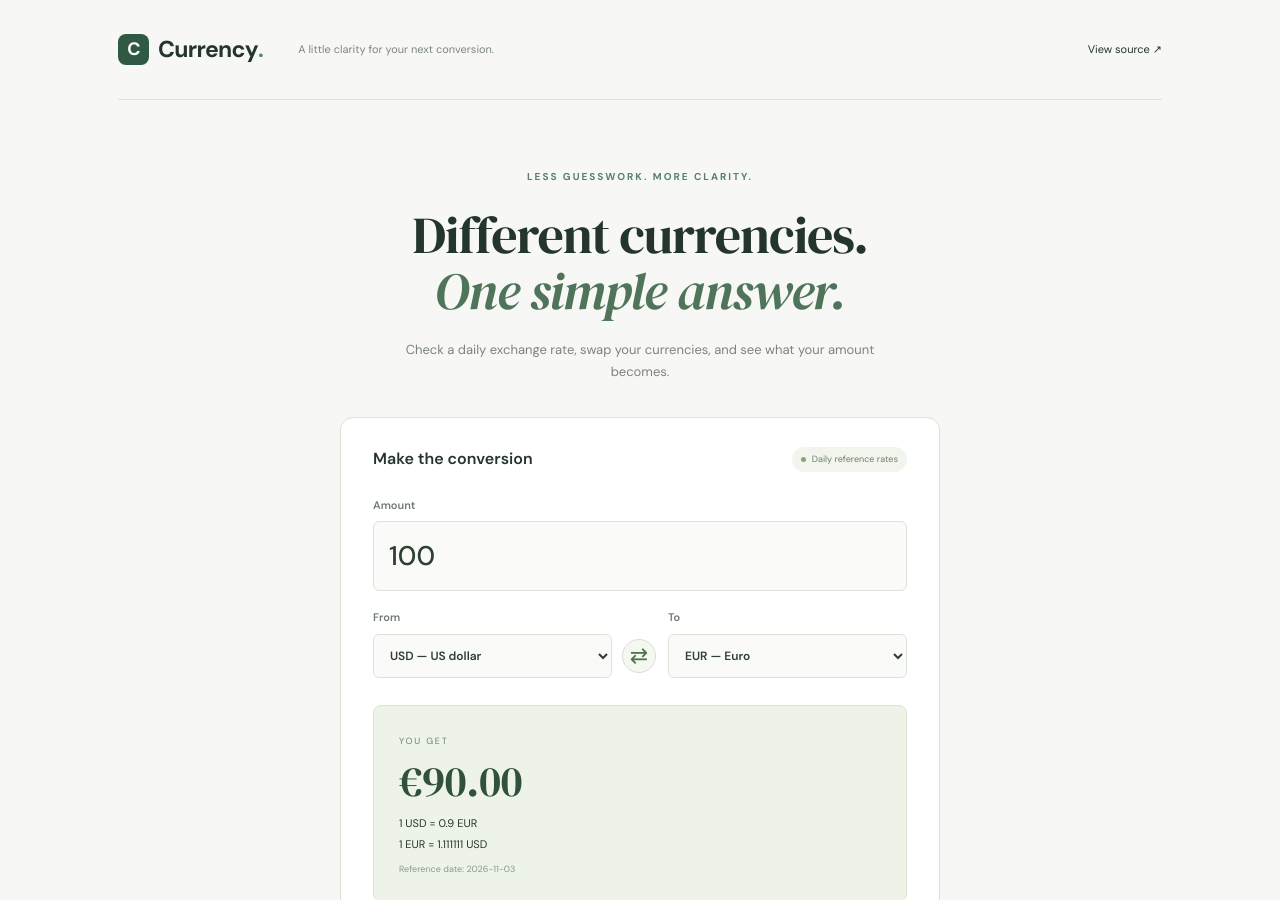
it: converts an amount using the returned rate and shows the reference date
This screenshot has width=1280, height=900.
Expected: the text named "Converted amount" reads "€90.00", top-left (399, 751), bottom-right (522, 810)
Replace the text in the number field labelled "Amount" with "250": (640, 556) top-left (373, 521), bottom-right (907, 591)
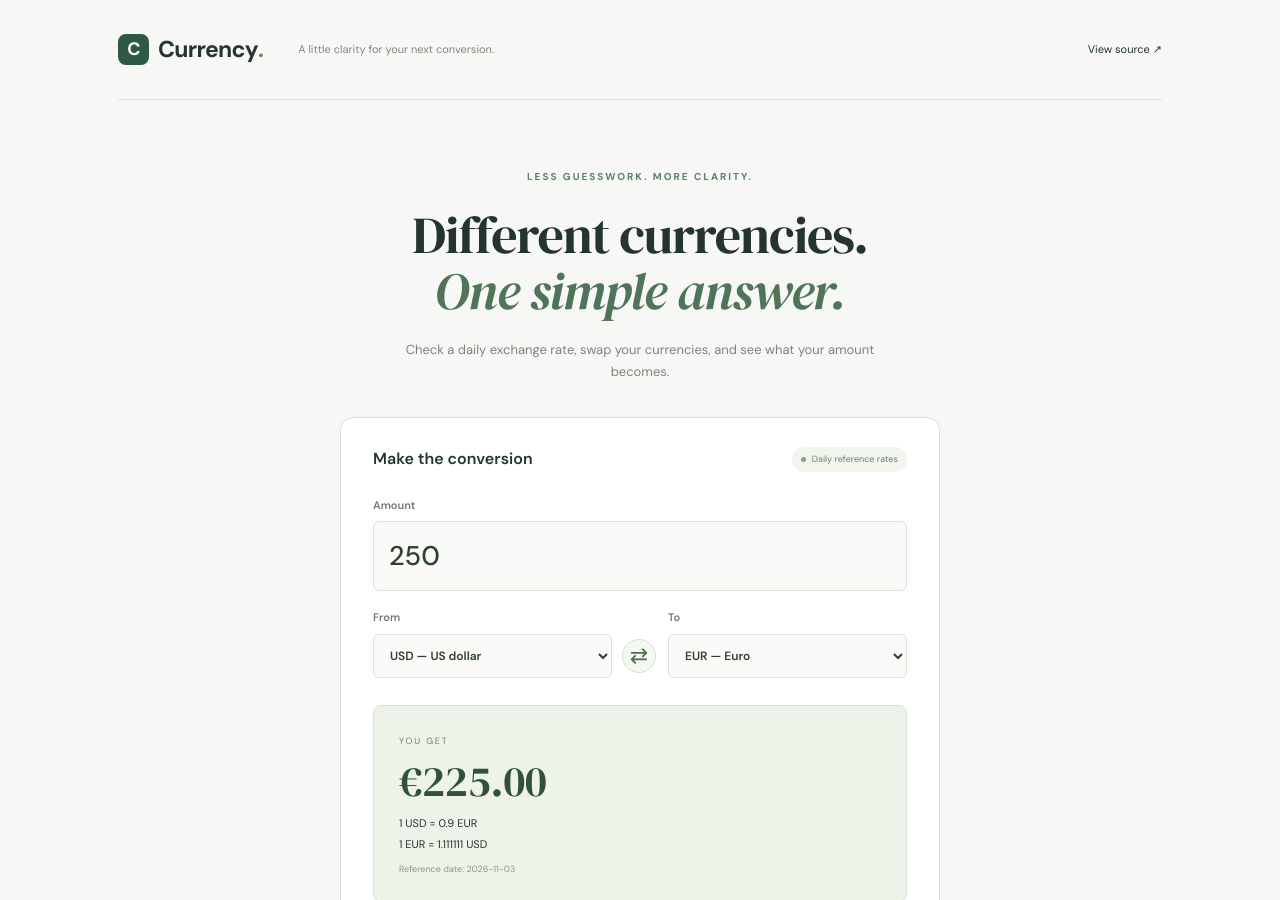
Expected: the text "Reference date: 2026-11-03" is shown, top-left (399, 863), bottom-right (515, 875)
Now the text named "Converted amount" reads "€225.00", box top-left (399, 751), bottom-right (547, 810)
